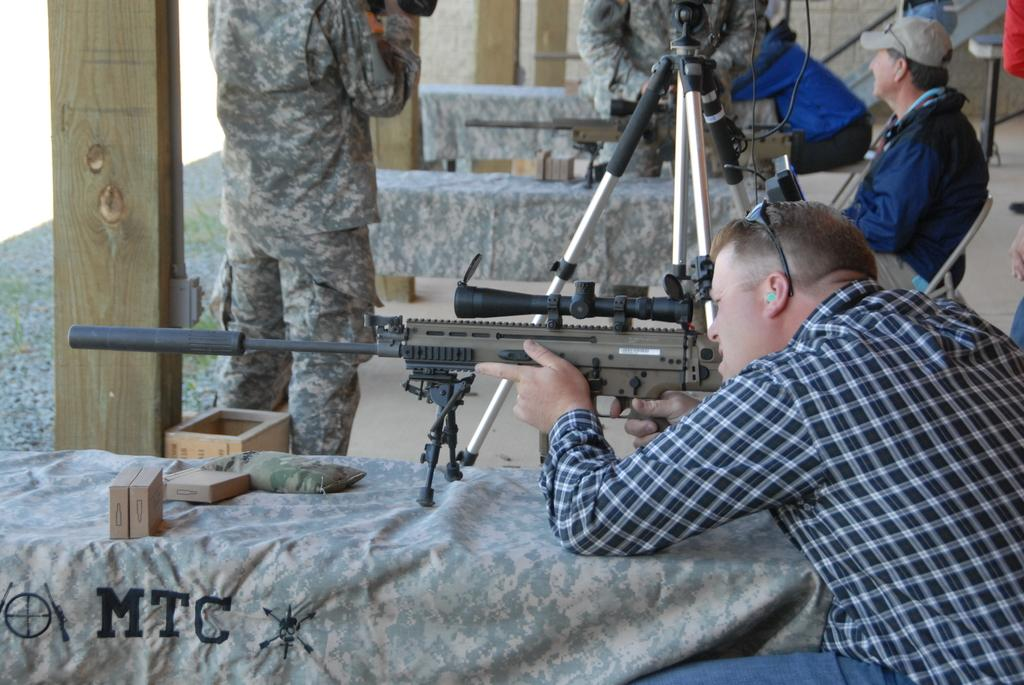Rifle: (66, 254, 716, 506)
